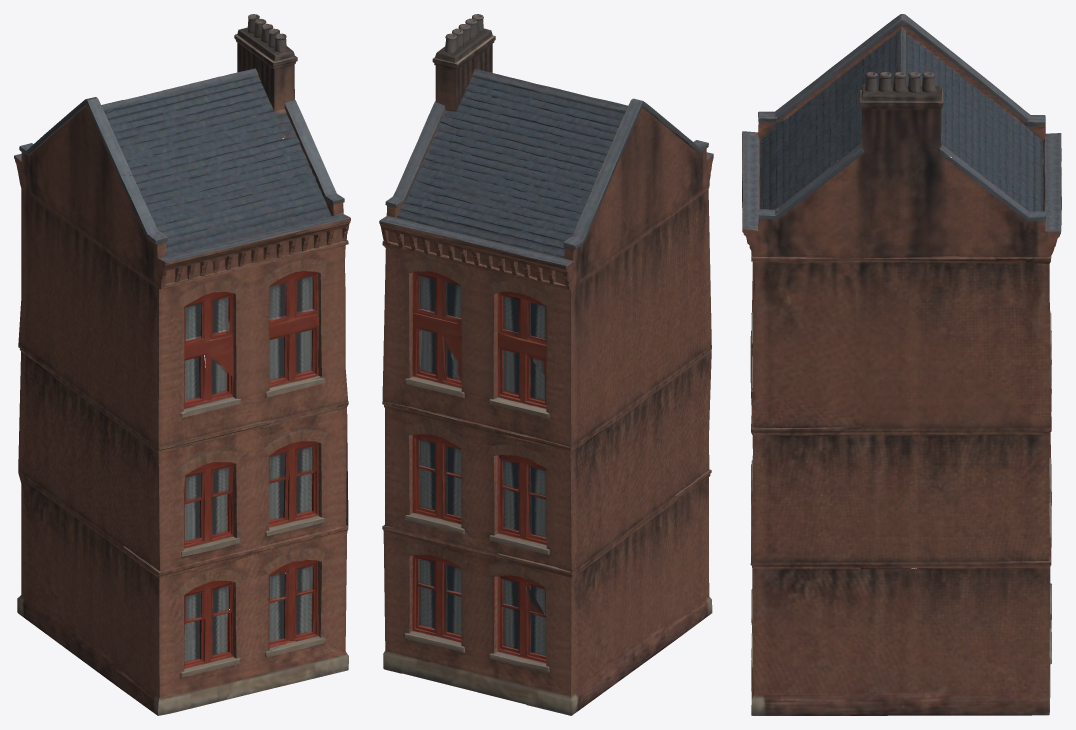
Rendered from colony_house_c1_tall.glb.
The picture shows the model from 3 angles, left to right: view 1: azimuth 30°, elevation 25°; view 2: azimuth 150°, elevation 25°; view 3: azimuth 270°, elevation 25°; orthographic projection. The views are drawn at different scales.
Parts seen in each view (by area): view 1: main; view 2: main; view 3: main.
Part boxes in pixels (x1=…): main: x1=14, y1=14, x2=350, y2=715; main: x1=379, y1=14, x2=713, y2=715; main: x1=742, y1=14, x2=1061, y2=715.
Size of the model in its own units: 4.82 by 14.3 by 6.52.
Materials: 1 (1 with a texture image).
